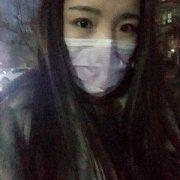OK: (55, 1, 140, 95)
